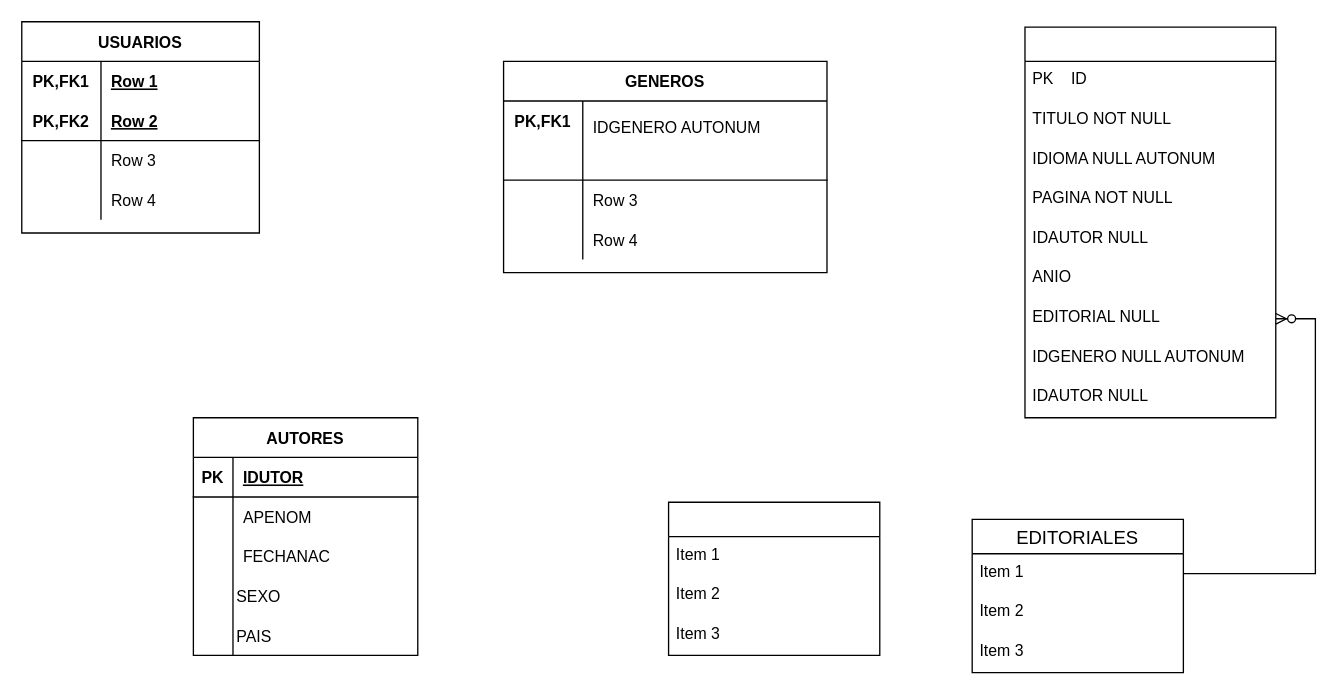
This 1337x694 diagram has some shape labels left out. The shapes that lost their labels are listed below. From the top down, each one's box as (x1, y1, x2, y2) in pixels, then its label:
(1024, 26, 1276, 418): LIBROS
(667, 501, 880, 655): IDIOMAS
